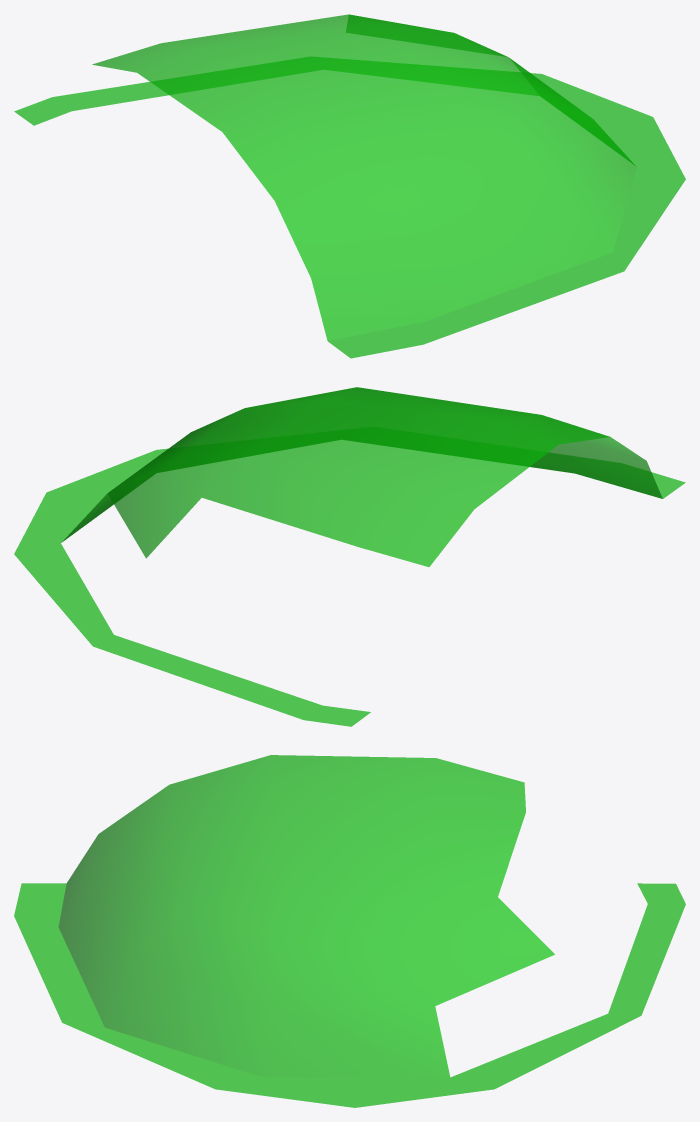
3 renders of one model, top to bottom at view 1: azimuth 30°, elevation 25°; view 2: azimuth 150°, elevation 25°; view 3: azimuth 270°, elevation 25°, orthographic. The views are drawn at different scales.
Visible parts, largest first — view 1: dummy_curry2; view 2: dummy_curry2; view 3: dummy_curry2.
Boxes of the visible parts, x1,y1,x2,y2 form: dummy_curry2: [14, 14, 685, 358]; dummy_curry2: [14, 387, 685, 726]; dummy_curry2: [14, 755, 685, 1107].
Bounding box in the file's own units: 0.4282 × 0.1204 × 0.5417.
